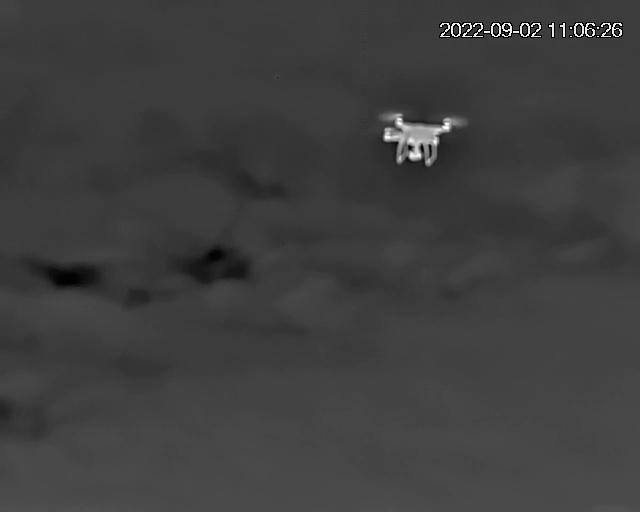DJI-Phantom: (381, 105, 469, 169)
